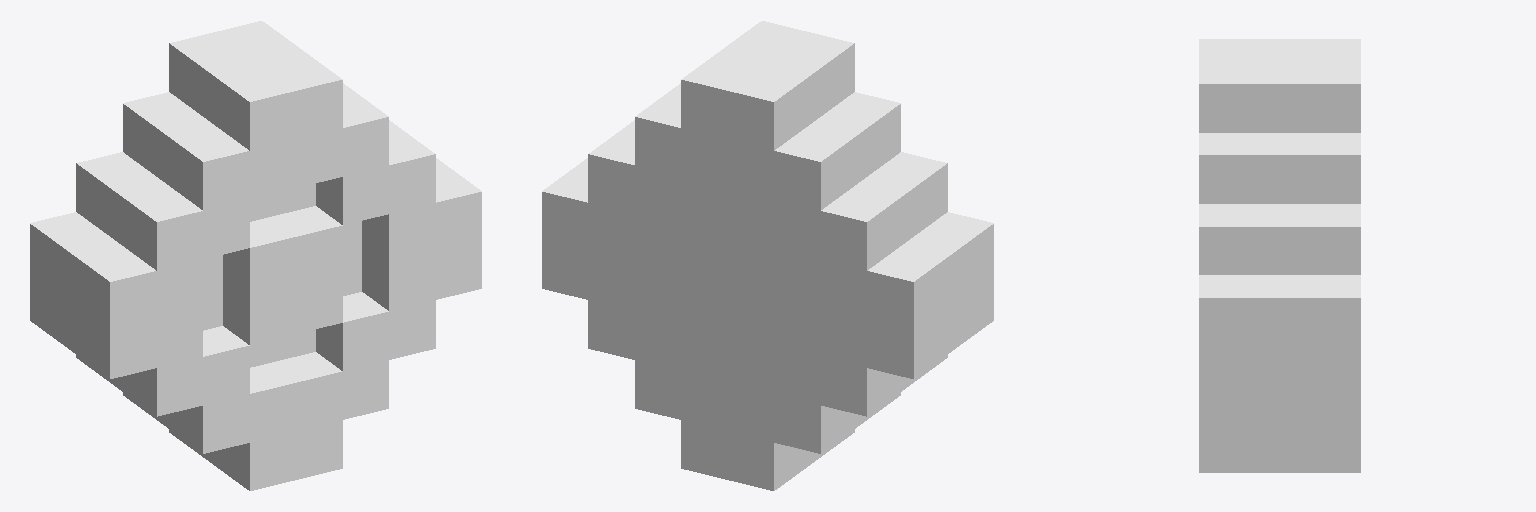
File: CarWheel.obj
3 views of the same model, side by side, from view 1: azimuth 30°, elevation 25°; view 2: azimuth 150°, elevation 25°; view 3: azimuth 270°, elevation 25° (orthographic).
Parts seen in each view (by area): view 1: object 1; view 2: object 1; view 3: object 1.
Part boxes in pixels (x1,y1,x2,y2): object 1: (30,21,481,490); object 1: (542,21,993,490); object 1: (1199,39,1360,472).
Bounding box in the file's own units: 0.8 × 0.8 × 0.3.